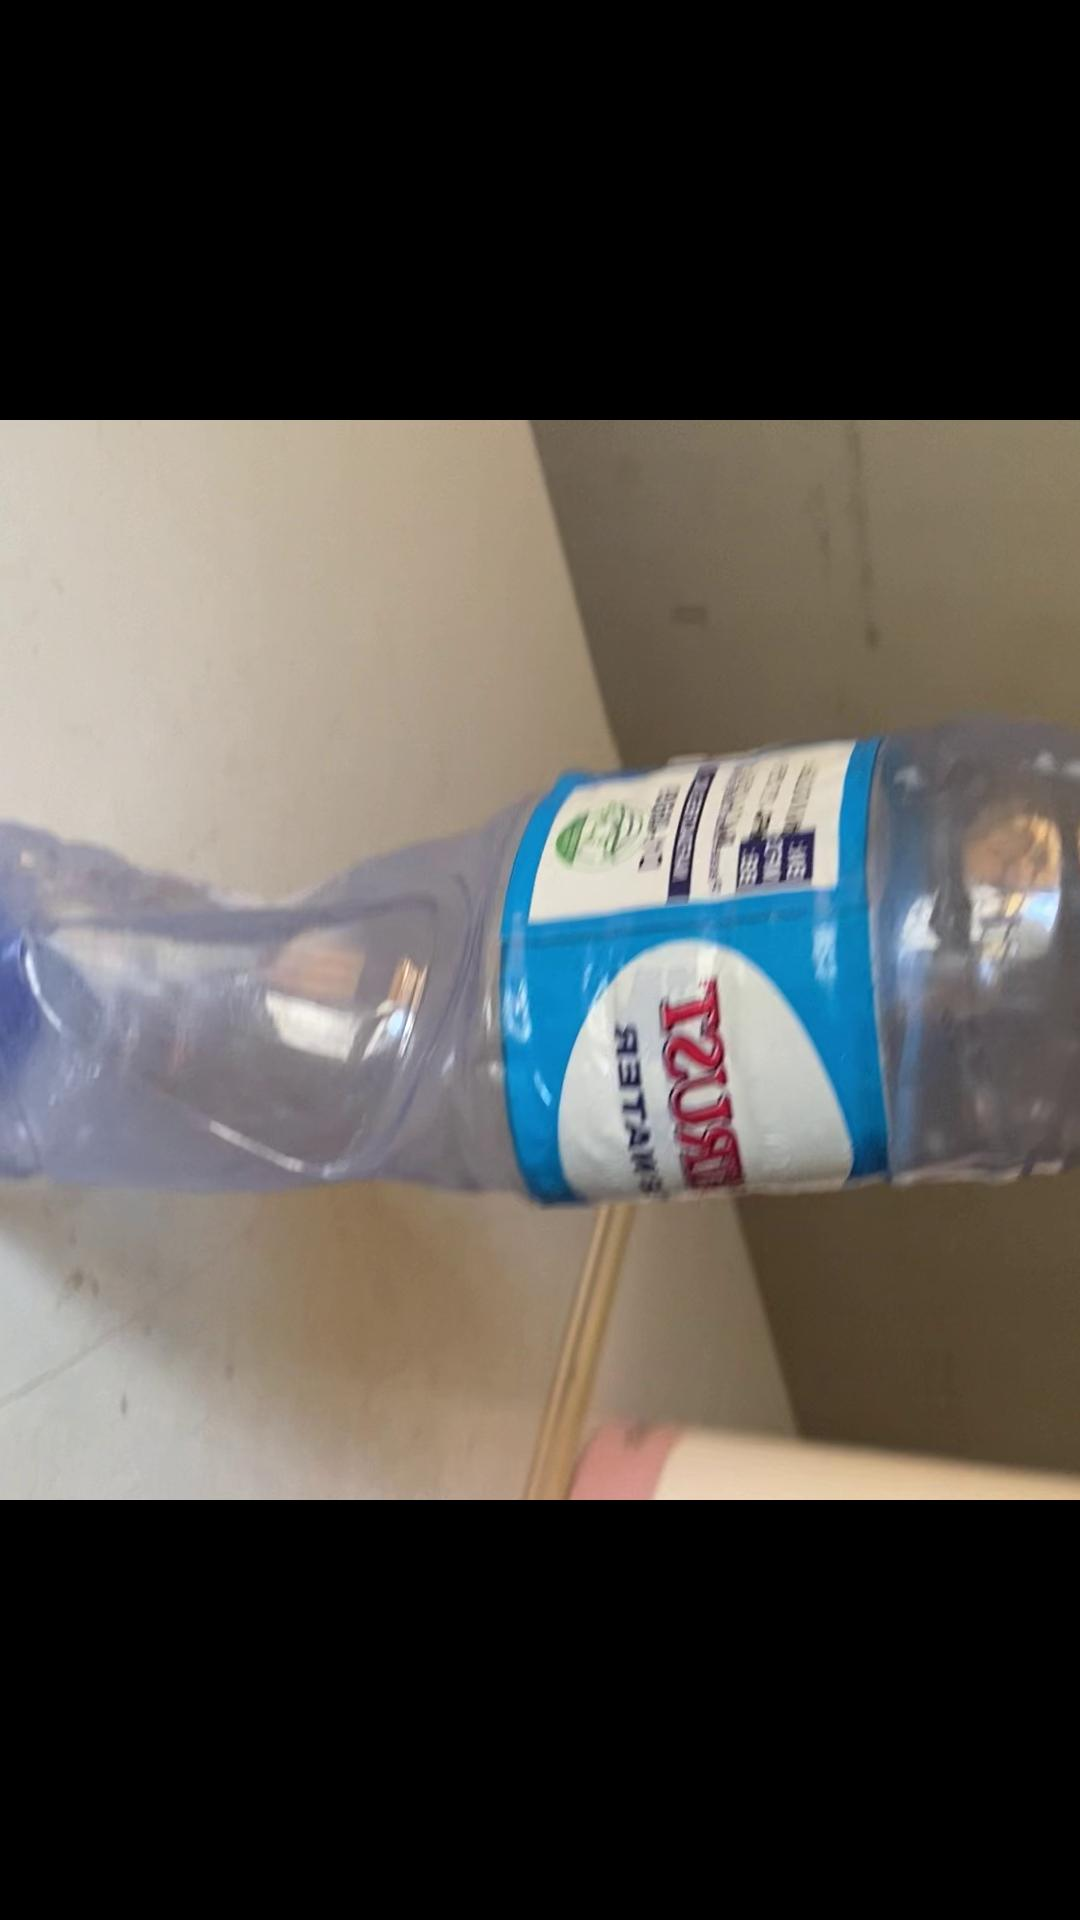crumbled: (0, 713, 1080, 1207)
label: (509, 729, 881, 1209)
